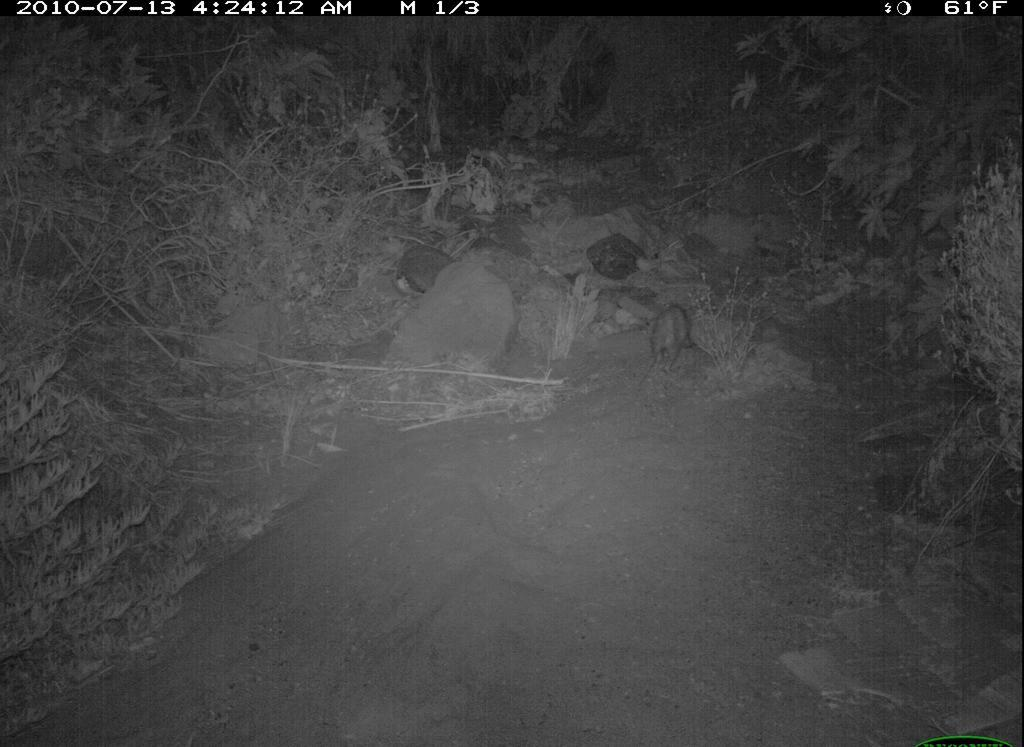opossum: (636, 289, 703, 377)
